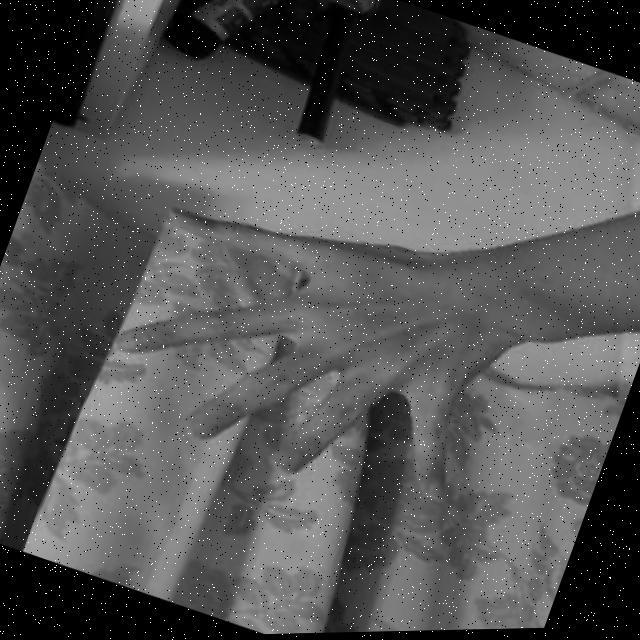no-gloves: (90, 160, 524, 534)
